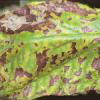Tomato leaf bacterial spot: (1, 3, 99, 99)
